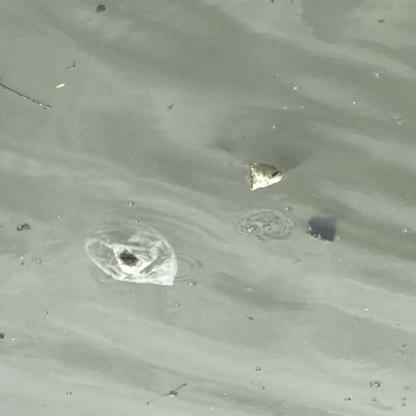Trash: (78, 215, 176, 296), (241, 156, 292, 200), (306, 216, 340, 254)
